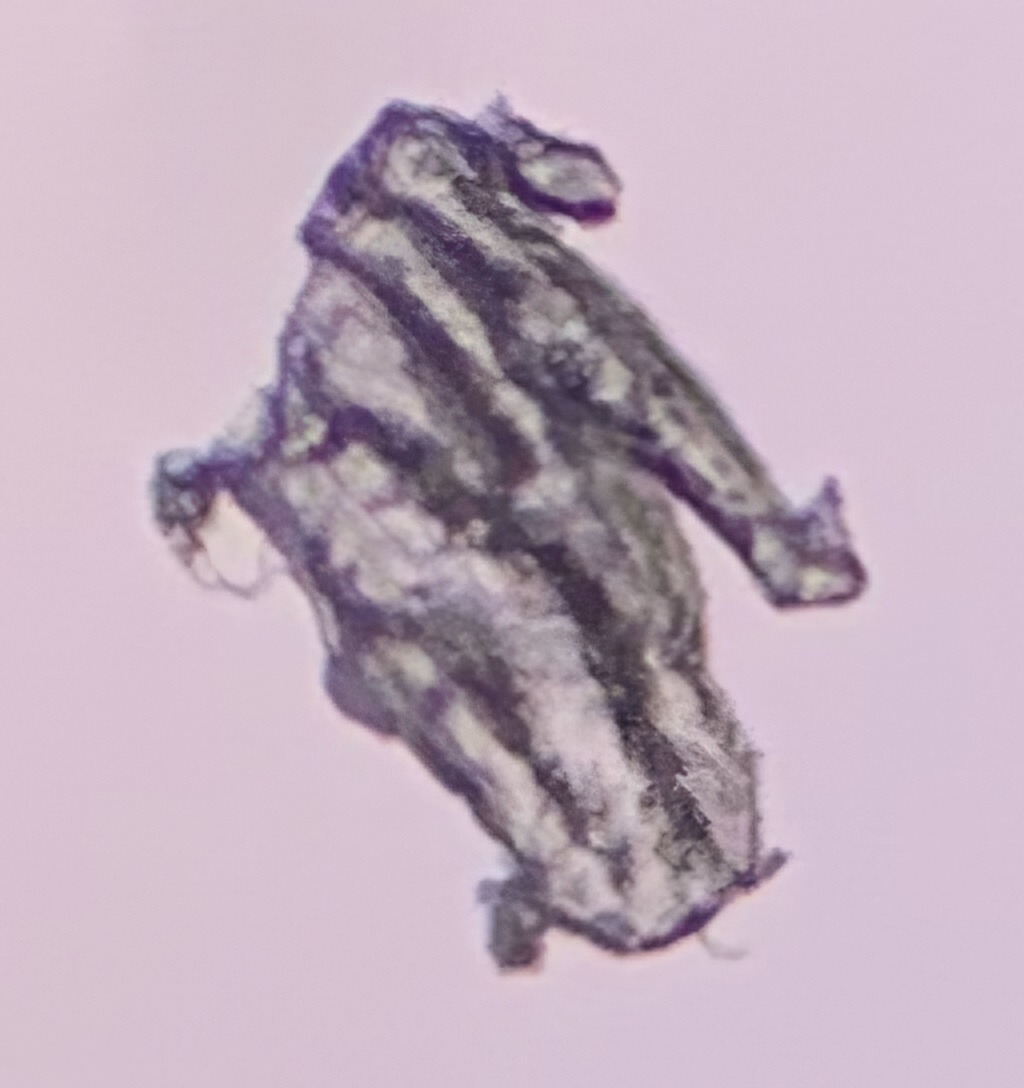microplastic: (148, 87, 870, 980)
